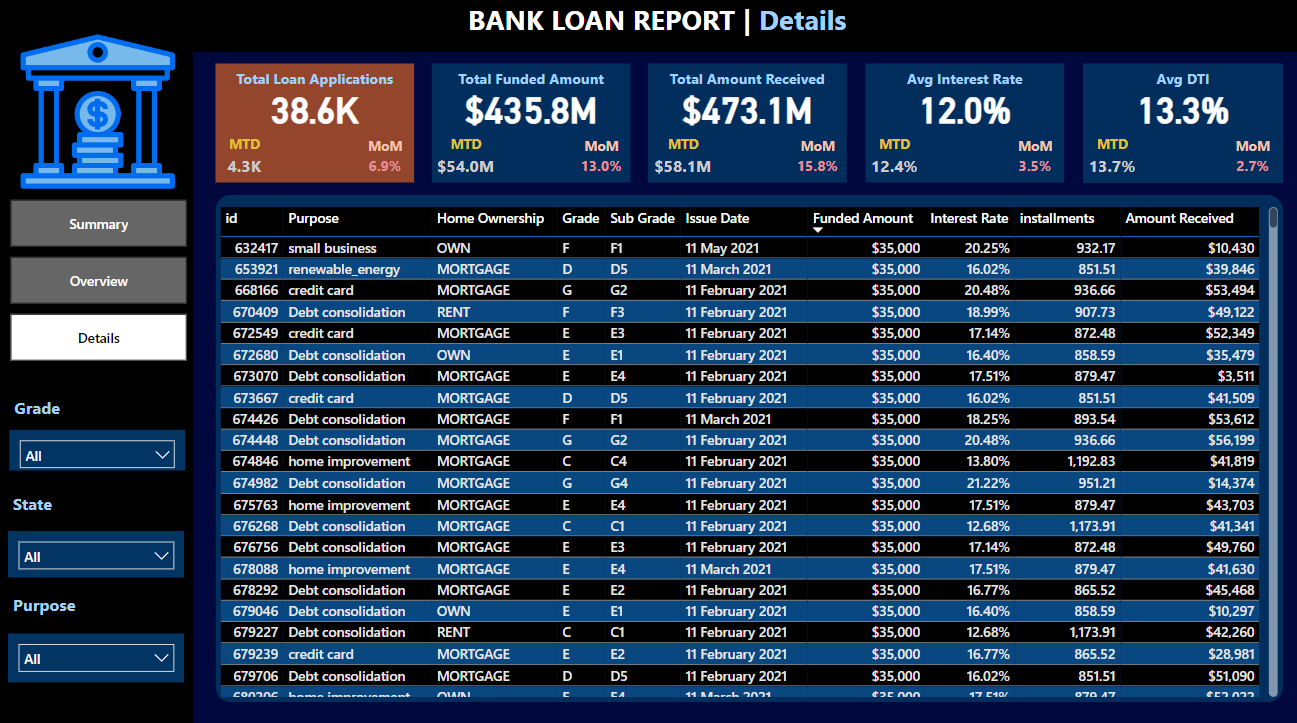

What the dashboard file says about the page in this screenshot:
{"tool":"powerbi","page":{"name":"Details","canvas":[1280,720],"ordinal":2},"visuals":[{"type":"shape","box":[0,0,1280,55],"z":0},{"type":"shape","box":[0,54,191.4,666.3],"z":0,"group":"g1"},{"type":"shape","box":[1065.4,66,196.4,117.5],"z":0,"group":"g6"},{"type":"shape","box":[214,66.1,195,117],"z":0,"group":"g2"},{"type":"shape","box":[426.3,66.1,195,117],"z":0,"group":"g3"},{"type":"shape","box":[638.5,66.1,195,117],"z":0,"group":"g4"},{"type":"shape","box":[851.8,66.1,195,117],"z":0,"group":"g5"},{"type":"group","id":"g1","title":"Group 5","box":[0,54,191.4,666.3],"z":1000},{"type":"card","fields":{"Values":["financial_loan.Total_Loan_Applications"]},"box":[214,82.1,195,55],"z":1000,"group":"g2"},{"type":"card","fields":{"Values":["financial_loan.Total Funded Amount"]},"box":[426.3,82.1,195,55],"z":1000,"group":"g3"},{"type":"card","fields":{"Values":["financial_loan.Total Amount Recieved"]},"box":[638.5,82.1,195,55],"z":1000,"group":"g4"},{"type":"card","fields":{"Values":["financial_loan.Avg Interest Rate"]},"box":[851.8,82.1,195,55],"z":1000,"group":"g5"},{"type":"card","fields":{"Values":["financial_loan.Avg DTI"]},"box":[1065.4,82.1,196.4,55.2],"z":1000,"group":"g6"},{"type":"textbox","box":[1065.4,66,196.4,32.1],"z":2000,"group":"g6"},{"type":"textbox","box":[214,66.1,195,32],"z":2000,"group":"g2"},{"type":"textbox","box":[426.3,66.1,195,32],"z":2000,"group":"g3"},{"type":"textbox","box":[638.5,66.1,195,32],"z":2000,"group":"g4"},{"type":"textbox","box":[851.8,66.1,195,32],"z":2000,"group":"g5"},{"type":"shape","box":[213.5,195.1,1047.9,498.2],"z":2000},{"type":"textbox","box":[456,0,568,55],"z":3000},{"type":"card","title":"MTD","fields":{"Values":["financial_loan.MTD_Total_Loan_Applications"]},"box":[214,136.1,57,47],"z":3000,"group":"g2"},{"type":"card","title":"MTD","fields":{"Values":["financial_loan.MTD_Funded_Amount"]},"box":[426.3,136.1,67,47],"z":3000,"group":"g3"},{"type":"card","title":"MTD","fields":{"Values":["financial_loan.MTD_Amount_Recieved"]},"box":[638.5,136.1,69,47],"z":3000,"group":"g4"},{"type":"card","title":"MTD","fields":{"Values":["financial_loan.MTD Avg Rate"]},"box":[851.8,136.1,57,47],"z":3000,"group":"g5"},{"type":"card","title":"MTD","fields":{"Values":["financial_loan.MTD Avg DTI"]},"box":[1065.4,136.3,57.4,47.2],"z":3000,"group":"g6"},{"type":"group","id":"g2","title":"Group 1","box":[214,66.1,194.5,116.7],"z":4000},{"type":"card","title":"MoM","fields":{"Values":["financial_loan.MoM_Loan_Applications"]},"box":[351,137.1,58,46],"z":4000,"group":"g2"},{"type":"card","title":"MoM","fields":{"Values":["financial_loan.MoM_Funded_Amount"]},"box":[563.3,137.1,58,46],"z":4000,"group":"g3"},{"type":"card","title":"MoM","fields":{"Values":["financial_loan.MoM Amount Recieved"]},"box":[775.5,137.1,58,46],"z":4000,"group":"g4"},{"type":"card","title":"MoM","fields":{"Values":["financial_loan.MoM Avg Rate"]},"box":[988.8,137.1,58,46],"z":4000,"group":"g5"},{"type":"card","title":"MoM","fields":{"Values":["financial_loan.MoM Avg DTI"]},"box":[1203.4,137.3,58.4,46.2],"z":4000,"group":"g6"},{"type":"group","id":"g3","title":"Group 1","box":[426.3,66.1,194.5,116.7],"z":5000},{"type":"group","id":"g4","title":"Group 1","box":[638.5,66.1,195.5,116.7],"z":6000},{"type":"textbox","box":[11,387.7,172.7,36.9],"z":6000,"group":"g9"},{"type":"textbox","box":[9.8,482.2,86.5,34.7],"z":6000,"group":"g7"},{"type":"textbox","box":[9.8,581.6,86.5,36.1],"z":6000,"group":"g8"},{"type":"group","id":"g5","title":"Group 1","box":[851.8,66.1,195.5,116.7],"z":7000},{"type":"group","id":"g6","title":"Group 1","box":[1065.4,66,196.9,117.2],"z":8000},{"type":"tableEx","fields":{"Values":["financial_loan.id","financial_loan.purpose","financial_loan.home_ownership","financial_loan.grade","financial_loan.sub_grade","financial_loan.issue_date","financial_loan.Total Funded Amount","Avg(financial_loan.int_rate)","Sum(financial_loan.installment)","financial_loan.Total Amount Recieved"]},"box":[212.3,202.5,1049.1,490.8],"z":9000},{"type":"group","id":"g7","title":"Group 4","box":[9.8,482.2,173,88.3],"z":10000},{"type":"group","id":"g8","title":"Group 4","box":[9.8,581.6,173,92],"z":11000},{"type":"group","id":"g9","title":"Group 6","box":[11,387.7,173,77.3],"z":12000},{"type":"pageNavigator","box":[12.3,200,173,159.5],"z":12001},{"type":"image","box":[12.3,27,171.8,173],"z":12002},{"type":"slicer","fields":{"Values":["financial_loan.grade"]},"box":[11.3,425.4,172.7,39.6],"z":16000,"group":"g9"},{"type":"slicer","fields":{"Values":["financial_loan.address_state"]},"box":[9.8,524.7,173,45.8],"z":16000,"group":"g7"},{"type":"slicer","fields":{"Values":["financial_loan.purpose"]},"box":[9.8,625.9,173,47.8],"z":16000,"group":"g8"}]}

Visuals, with their boxes in screenshot pixels (x1, y1, x2, y2), scaled from the page's 1280x720 canvas onto the 1297x723 screenshot:
shape: box=[0, 0, 1296, 55]
shape: box=[0, 54, 194, 722]
shape: box=[1080, 66, 1279, 184]
shape: box=[217, 66, 414, 184]
shape: box=[432, 66, 630, 184]
shape: box=[647, 66, 845, 184]
shape: box=[863, 66, 1061, 184]
"Group 5" group: box=[0, 54, 194, 722]
card - financial_loan.Total_Loan_Applications: box=[217, 82, 414, 138]
card - financial_loan.Total Funded Amount: box=[432, 82, 630, 138]
card - financial_loan.Total Amount Recieved: box=[647, 82, 845, 138]
card - financial_loan.Avg Interest Rate: box=[863, 82, 1061, 138]
card - financial_loan.Avg DTI: box=[1080, 82, 1279, 138]
textbox: box=[1080, 66, 1279, 99]
textbox: box=[217, 66, 414, 99]
textbox: box=[432, 66, 630, 99]
textbox: box=[647, 66, 845, 99]
textbox: box=[863, 66, 1061, 99]
shape: box=[216, 196, 1278, 696]
textbox: box=[462, 0, 1038, 55]
"MTD" card: box=[217, 137, 275, 184]
"MTD" card: box=[432, 137, 500, 184]
"MTD" card: box=[647, 137, 717, 184]
"MTD" card: box=[863, 137, 921, 184]
"MTD" card: box=[1080, 137, 1138, 184]
"Group 1" group: box=[217, 66, 414, 184]
"MoM" card: box=[356, 138, 414, 184]
"MoM" card: box=[571, 138, 630, 184]
"MoM" card: box=[786, 138, 845, 184]
"MoM" card: box=[1002, 138, 1061, 184]
"MoM" card: box=[1219, 138, 1279, 184]
"Group 1" group: box=[432, 66, 629, 184]
"Group 1" group: box=[647, 66, 845, 184]
textbox: box=[11, 389, 186, 426]
textbox: box=[10, 484, 98, 519]
textbox: box=[10, 584, 98, 620]
"Group 1" group: box=[863, 66, 1061, 184]
"Group 1" group: box=[1080, 66, 1279, 184]
tableEx - financial_loan.id x financial_loan.purpose: box=[215, 203, 1278, 696]
"Group 4" group: box=[10, 484, 185, 573]
"Group 4" group: box=[10, 584, 185, 676]
"Group 6" group: box=[11, 389, 186, 467]
pageNavigator: box=[12, 201, 188, 361]
image: box=[12, 27, 187, 201]
slicer - financial_loan.grade: box=[11, 427, 186, 467]
slicer - financial_loan.address_state: box=[10, 527, 185, 573]
slicer - financial_loan.purpose: box=[10, 629, 185, 677]
